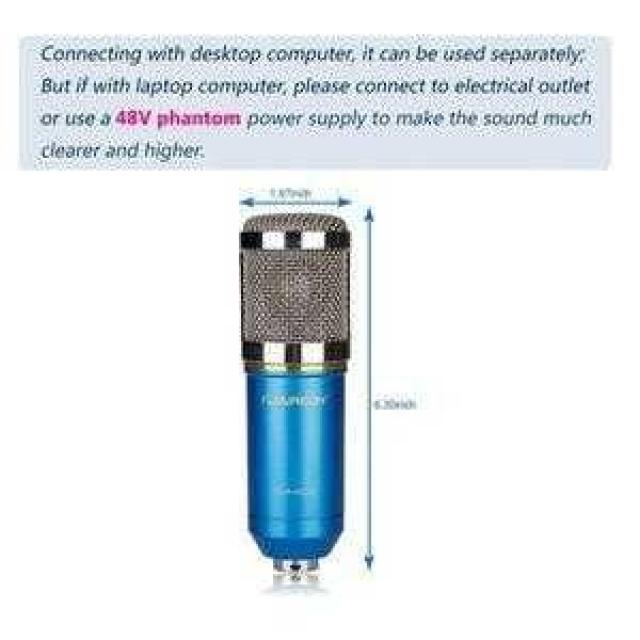microphone: (243, 211, 357, 575)
